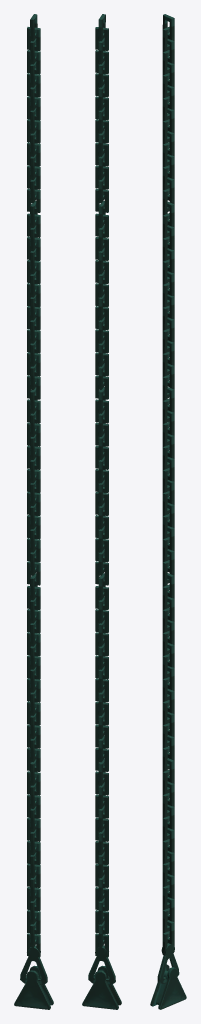
File: Chain.fbx
The picture shows the model from 3 angles, left to right: view 1: azimuth 30°, elevation 25°; view 2: azimuth 210°, elevation 25°; view 3: azimuth 270°, elevation 25°; orthographic projection.
Visible parts, largest first — view 1: chain024 (×5), chain012 (×5), chain014 (×5), chain022 (×5), chain018 (×5), chain020 (×5), chain016 (×5), chain010 (×5), Chain, chain025 (×5), chain023 (×5), chain011 (×5) (+6 smaller); view 2: chain024 (×5), chain012 (×5), chain014 (×5), chain022 (×5), chain016 (×5), chain018 (×5), chain020 (×5), chain010 (×5), Chain, chain025 (×5), chain019 (×5), chain023 (×5) (+6 smaller); view 3: chain025 (×5), Chain, chain018 (×5), chain024 (×5), chain014 (×5), chain022 (×5), chain012 (×5), chain020 (×5), chain010 (×5), chain016 (×5), chain023 (×5), chain011 (×5) (+6 smaller).
Part boxes in pixels (<box>): chain024 (×5): <box>27,27,40,795</box>; chain012 (×5): <box>27,165,40,934</box>; chain014 (×5): <box>27,142,40,911</box>; chain022 (×5): <box>27,50,40,818</box>; chain018 (×5): <box>27,96,40,864</box>; chain020 (×5): <box>27,73,40,841</box>; chain016 (×5): <box>27,119,40,887</box>; chain010 (×5): <box>27,188,40,957</box>; Chain: <box>14,965,53,1009</box>; chain025 (×5): <box>30,14,37,785</box>; chain023 (×5): <box>30,38,37,808</box>; chain011 (×5): <box>30,177,37,947</box>; chain024 (×5): <box>95,27,108,795</box>; chain012 (×5): <box>95,165,108,934</box>; chain014 (×5): <box>95,142,108,911</box>; chain022 (×5): <box>95,50,108,818</box>; chain016 (×5): <box>95,119,108,887</box>; chain018 (×5): <box>95,96,108,864</box>; chain020 (×5): <box>95,73,108,841</box>; chain010 (×5): <box>95,188,108,957</box>; Chain: <box>82,965,121,1009</box>; chain025 (×5): <box>98,14,105,785</box>; chain019 (×5): <box>98,84,105,855</box>; chain023 (×5): <box>98,37,105,808</box>; chain025 (×5): <box>162,14,174,783</box>; Chain: <box>150,964,186,1009</box>; chain018 (×5): <box>162,96,174,863</box>; chain024 (×5): <box>162,26,174,794</box>; chain014 (×5): <box>162,142,174,909</box>; chain022 (×5): <box>162,50,174,817</box>; chain012 (×5): <box>162,165,174,932</box>; chain020 (×5): <box>162,73,174,840</box>; chain010 (×5): <box>162,188,174,955</box>; chain016 (×5): <box>162,119,174,886</box>; chain023 (×5): <box>162,39,174,806</box>; chain011 (×5): <box>162,177,174,944</box>.
Bounding box in the file's own units: 1.23 × 36.84 × 1.23.
